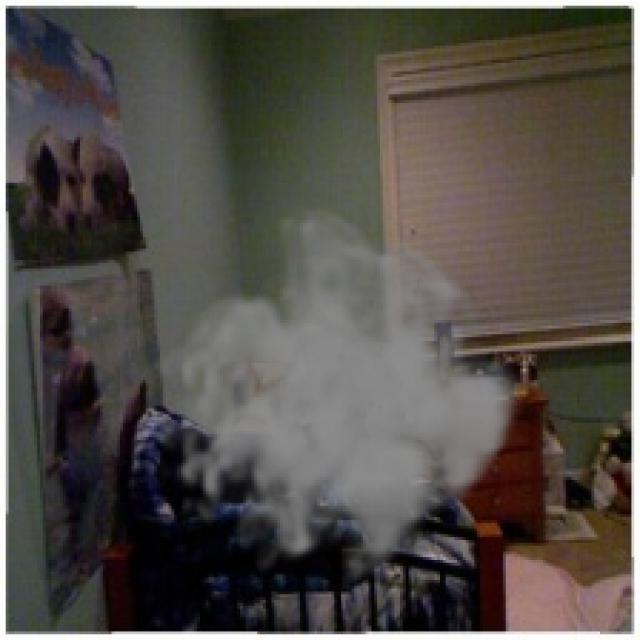smoke: (154, 200, 526, 597)
